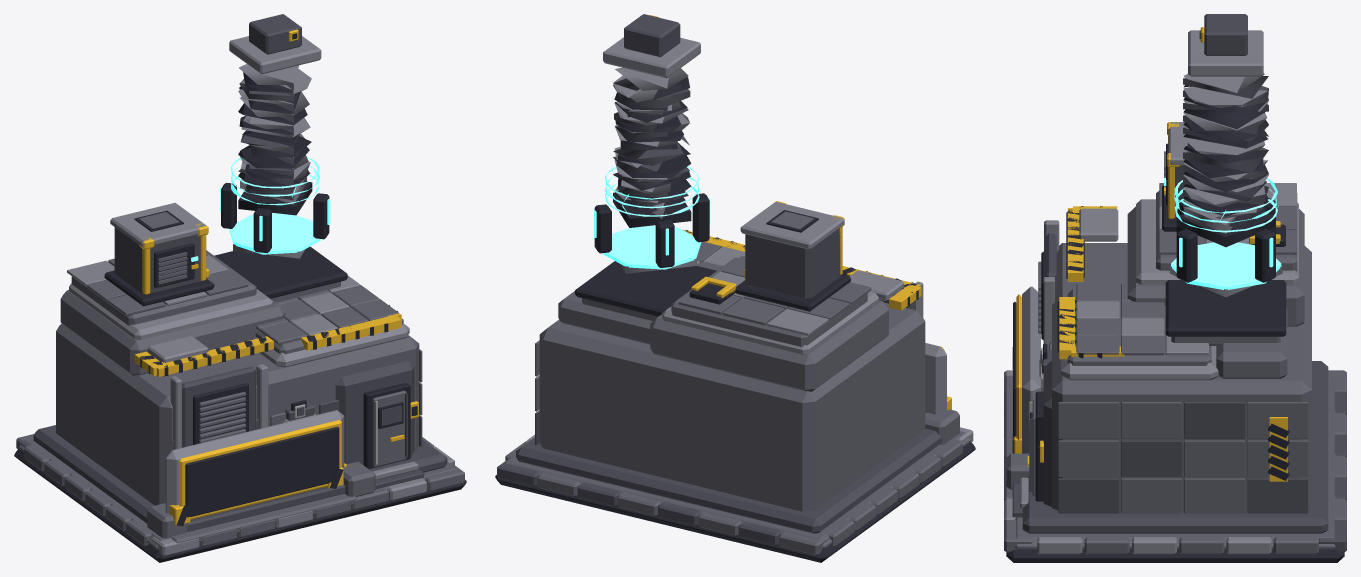
The model's file is power_node_lod1.glb.
3 renders of one model, left to right at view 1: azimuth 30°, elevation 25°; view 2: azimuth 150°, elevation 25°; view 3: azimuth 270°, elevation 25°, orthographic. The views are drawn at different scales.
Parts seen in each view (by area): view 1: Foundation_Dark_steel, Building_Cyan_emissive; view 2: Foundation_Dark_steel, Building_Cyan_emissive; view 3: Foundation_Dark_steel, Building_Cyan_emissive.
Boxes of the visible parts, x1,y1,x2,y2 form: Foundation_Dark_steel: (14,14,466,562); Building_Cyan_emissive: (191,157,330,261); Foundation_Dark_steel: (495,14,975,562); Building_Cyan_emissive: (594,166,710,269); Foundation_Dark_steel: (1004,14,1346,562); Building_Cyan_emissive: (1164,178,1281,289).
Size of the model in its own units: 6.35 by 8.17 by 5.21.
2 materials, 2 textured.
